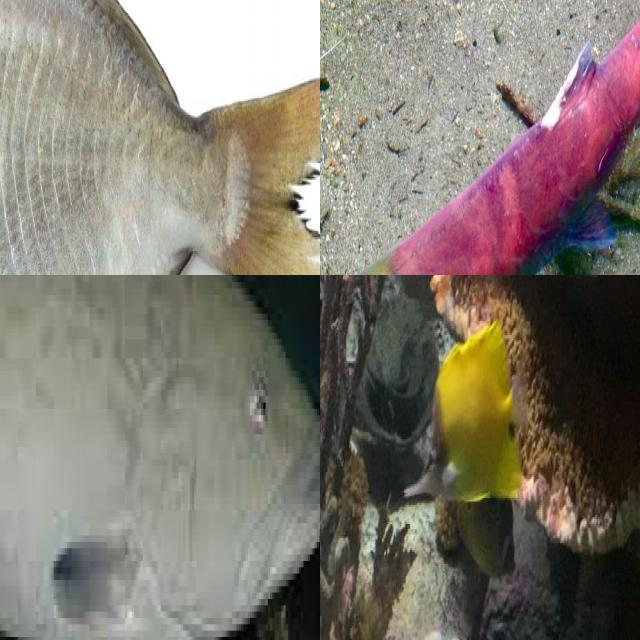fish: (0, 275, 290, 640), (0, 0, 320, 275), (327, 58, 543, 275)
